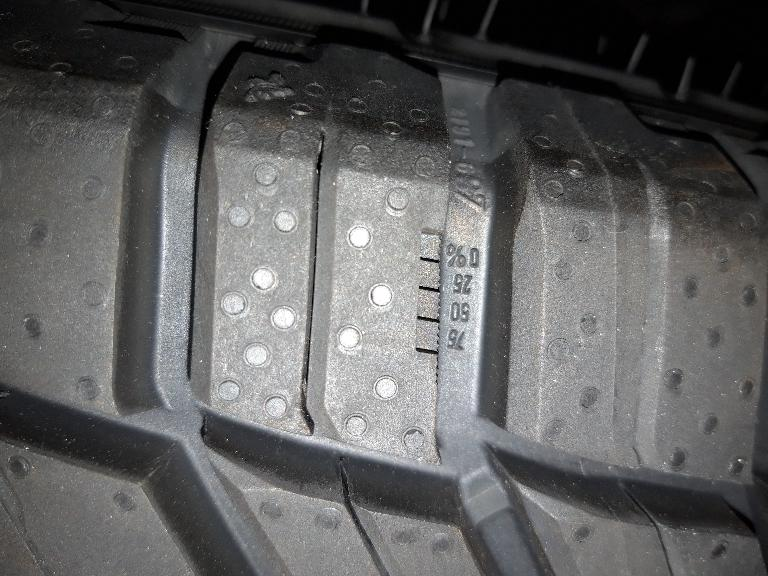temoin:100: (413, 222, 446, 385)
